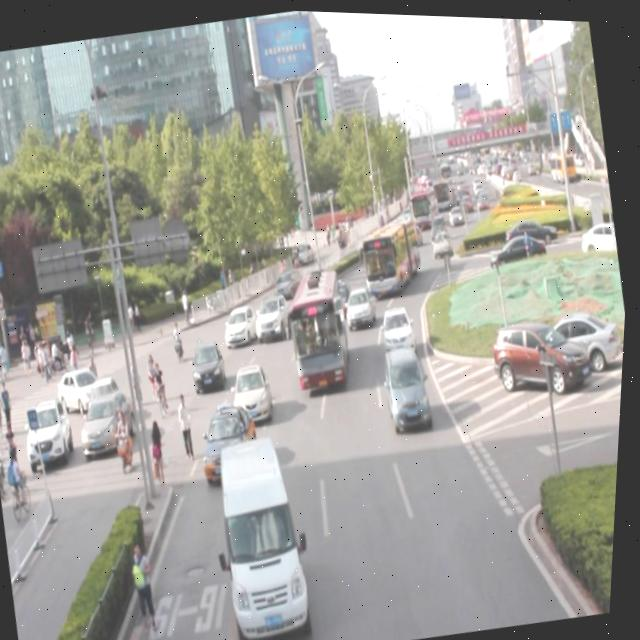car: (196, 395, 269, 481), (382, 340, 440, 431), (228, 356, 282, 426), (378, 297, 421, 356), (190, 335, 233, 393), (254, 290, 296, 342), (223, 301, 262, 347), (344, 282, 380, 327), (326, 274, 359, 317)
truck: (210, 431, 324, 638)
van: (285, 263, 359, 384), (357, 212, 428, 294)
